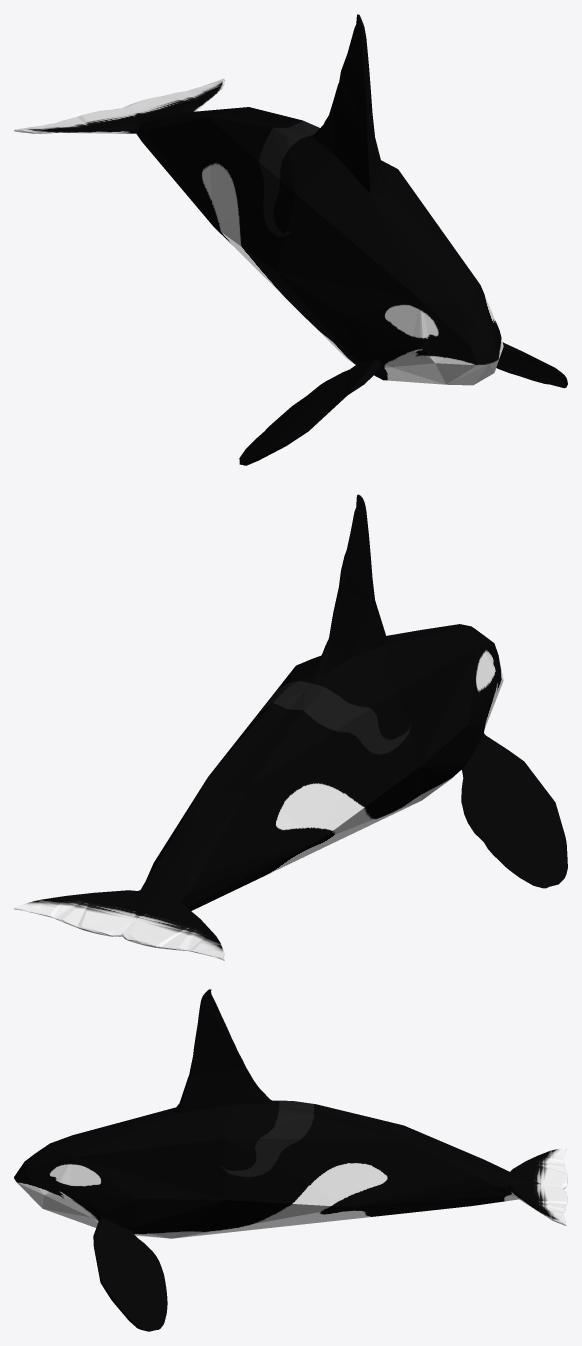
The model's file is Whale.dae.
3 renders of one model, top to bottom at view 1: azimuth 30°, elevation 25°; view 2: azimuth 150°, elevation 25°; view 3: azimuth 270°, elevation 25°, orthographic. The views are drawn at different scales.
Visible parts, largest first — view 1: KWHABODY; view 2: KWHABODY; view 3: KWHABODY.
Boxes of the visible parts, box(x1,y1,x2,y2) form: KWHABODY: box(14, 14, 567, 465); KWHABODY: box(14, 494, 567, 960); KWHABODY: box(14, 989, 567, 1331).
Size of the model in its own units: 0.9303 by 1.85 by 1.05.
Materials: 2 (2 with a texture image).
